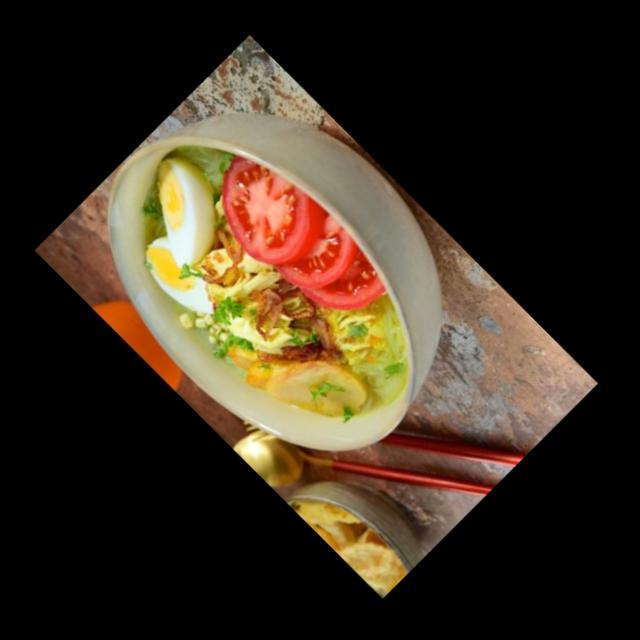Soto: (98, 158, 409, 408)
